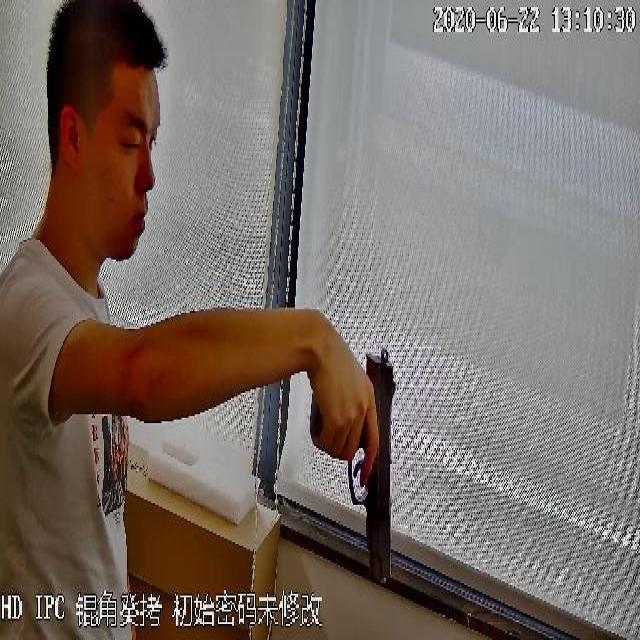pistol: (310, 350, 400, 592)
